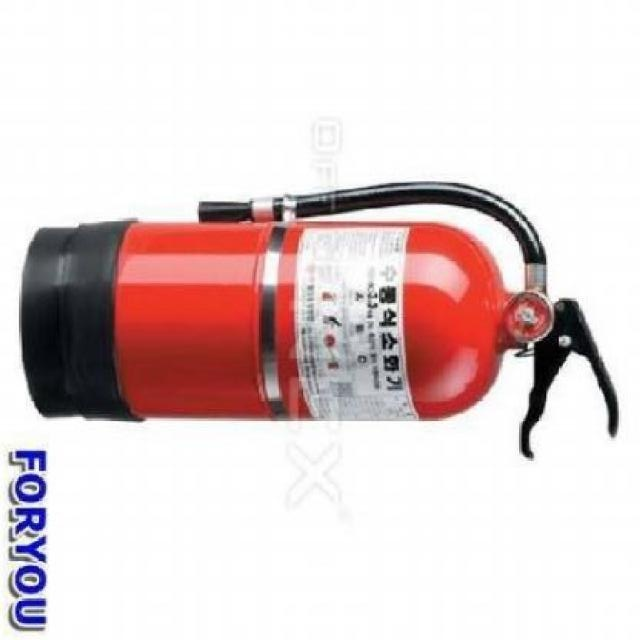fire extinguisher: (20, 181, 620, 461)
